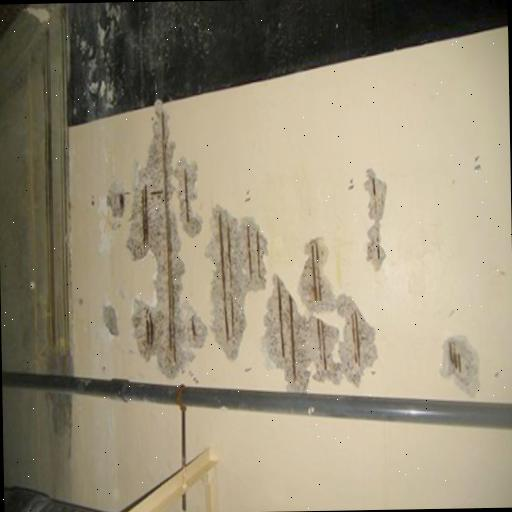spalling: (122, 105, 210, 379), (260, 236, 380, 392), (203, 205, 267, 358), (359, 166, 392, 272), (436, 330, 483, 394), (179, 159, 199, 239)
